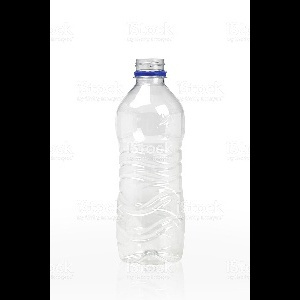emptybottle: (116, 59, 184, 266)
